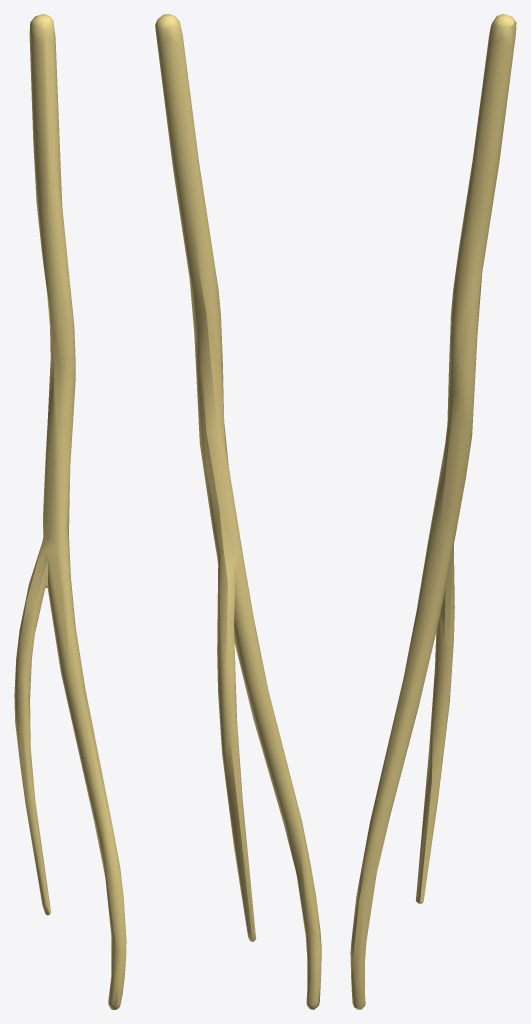
Rendered from fma52593_fj3918.glb.
The picture shows the model from 3 angles, left to right: view 1: azimuth 90°, elevation 25°; view 2: azimuth 150°, elevation 25°; view 3: azimuth 330°, elevation 25°; orthographic projection. The views are drawn at different scales.
Parts seen in each view (by area): view 1: FMA52593_FJ3918; view 2: FMA52593_FJ3918; view 3: FMA52593_FJ3918.
Part boxes in pixels (left/top/right/bottom): FMA52593_FJ3918: left=14, top=14, right=126, bottom=1009; FMA52593_FJ3918: left=155, top=14, right=321, bottom=1009; FMA52593_FJ3918: left=350, top=14, right=516, bottom=1009.
Size of the model in its own units: 0.00307 by 0.0236 by 0.00254.
